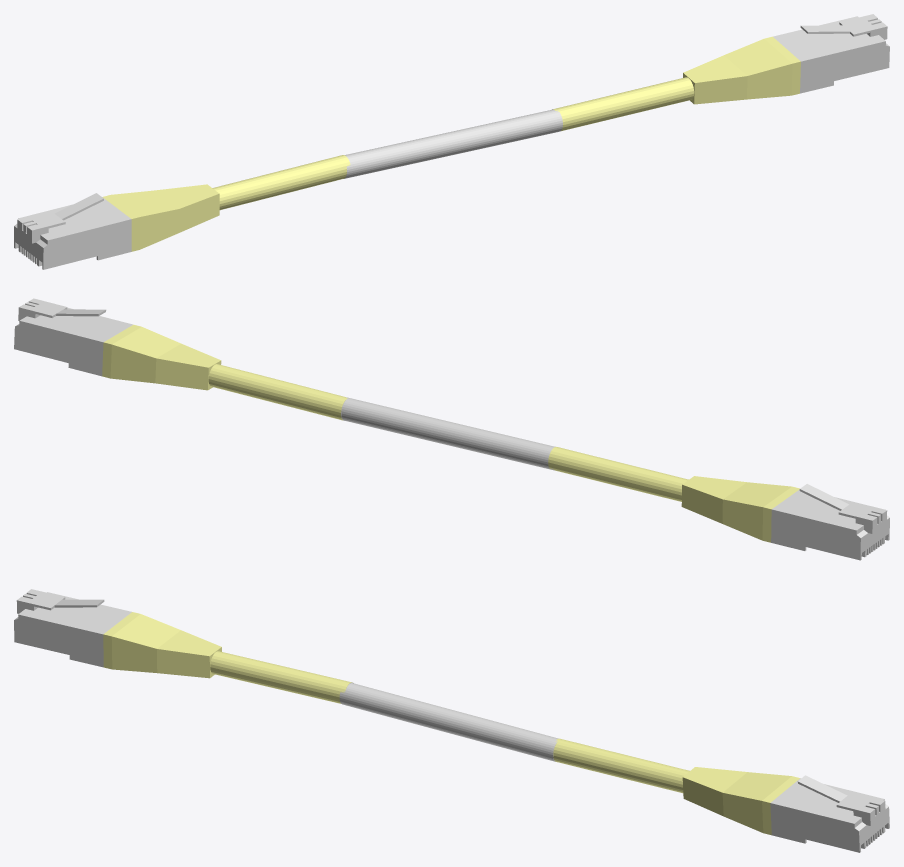
The model's file is CableCompleto.fbx.
3 views of the same model, one above another, from view 1: azimuth 30°, elevation 25°; view 2: azimuth 150°, elevation 25°; view 3: azimuth 330°, elevation 25° (orthographic).
Visible parts, largest first — view 1: Connector_A, Connector_B, CableBody; view 2: Connector_B, Connector_A, CableBody; view 3: Connector_A, Connector_B, CableBody.
Part boxes in pixels (bbox=[...]): Connector_A: bbox=[552, 14, 889, 131]; Connector_B: bbox=[14, 155, 350, 269]; CableBody: bbox=[344, 109, 562, 178]; Connector_B: bbox=[548, 447, 889, 560]; Connector_A: bbox=[14, 298, 347, 420]; CableBody: bbox=[341, 397, 555, 470]; Connector_A: bbox=[553, 738, 889, 852]; Connector_B: bbox=[14, 589, 353, 703]; CableBody: bbox=[339, 683, 558, 761].
Size of the model in its own units: 796 by 46.85 by 54.81.
